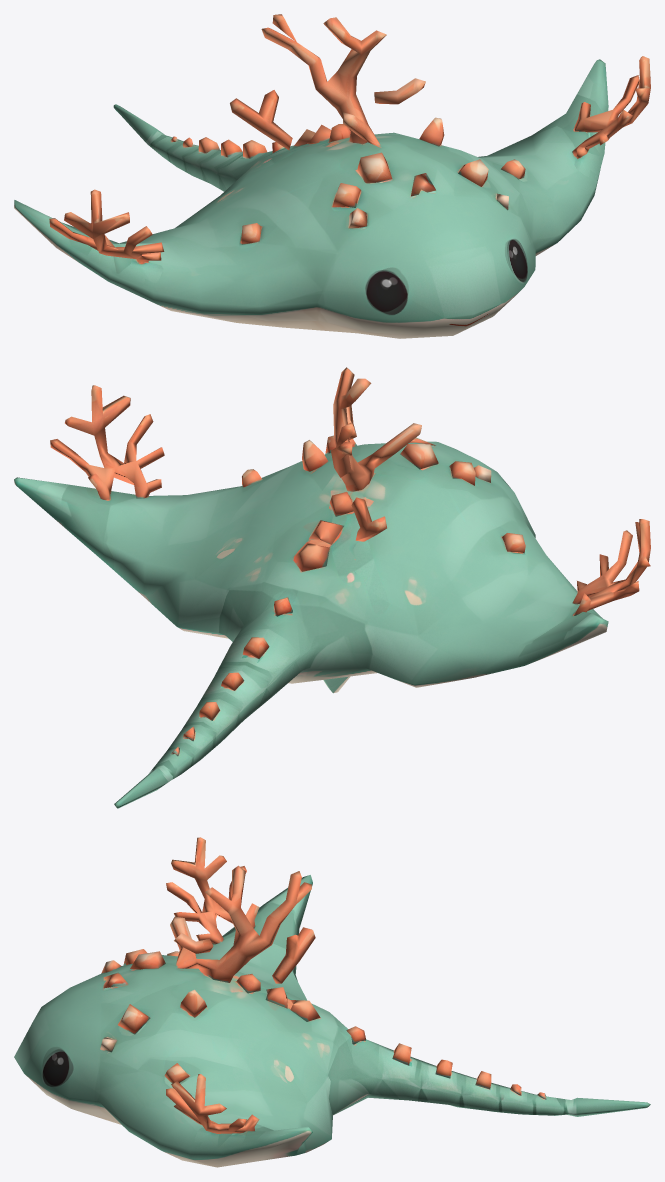
Rendered from coral_ray.fbx.
The picture shows the model from 3 angles, top to bottom: view 1: azimuth 30°, elevation 25°; view 2: azimuth 150°, elevation 25°; view 3: azimuth 270°, elevation 25°; orthographic projection. The views are drawn at different scales.
Parts seen in each view (by area): view 1: tripo_node_b4e5955b-987f-4232-be11-3d01d705fd6a; view 2: tripo_node_b4e5955b-987f-4232-be11-3d01d705fd6a; view 3: tripo_node_b4e5955b-987f-4232-be11-3d01d705fd6a.
Boxes of the visible parts, x1=… form: tripo_node_b4e5955b-987f-4232-be11-3d01d705fd6a: x1=14, y1=14, x2=650, y2=338; tripo_node_b4e5955b-987f-4232-be11-3d01d705fd6a: x1=14, y1=367, x2=650, y2=808; tripo_node_b4e5955b-987f-4232-be11-3d01d705fd6a: x1=14, y1=837, x2=650, y2=1167.
Size of the model in its own units: 0.9434 by 0.4746 by 0.998.
Materials: 1 (1 with a texture image).
